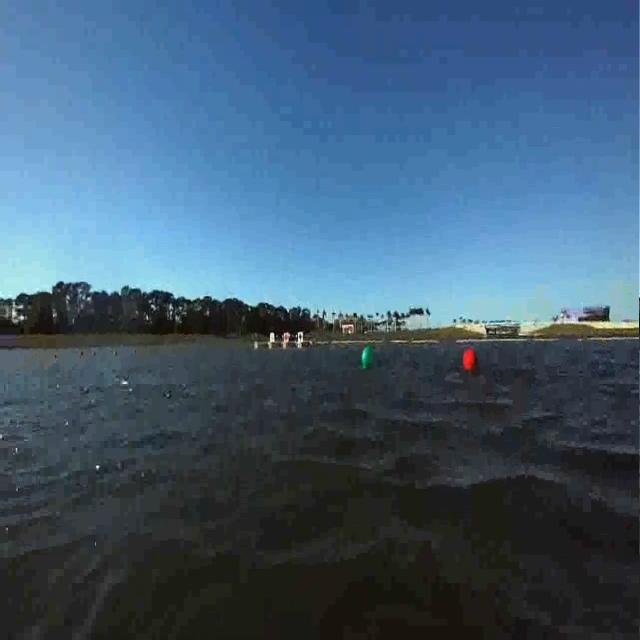green-buoy: (360, 345, 373, 369)
red-buoy: (465, 348, 479, 373)
